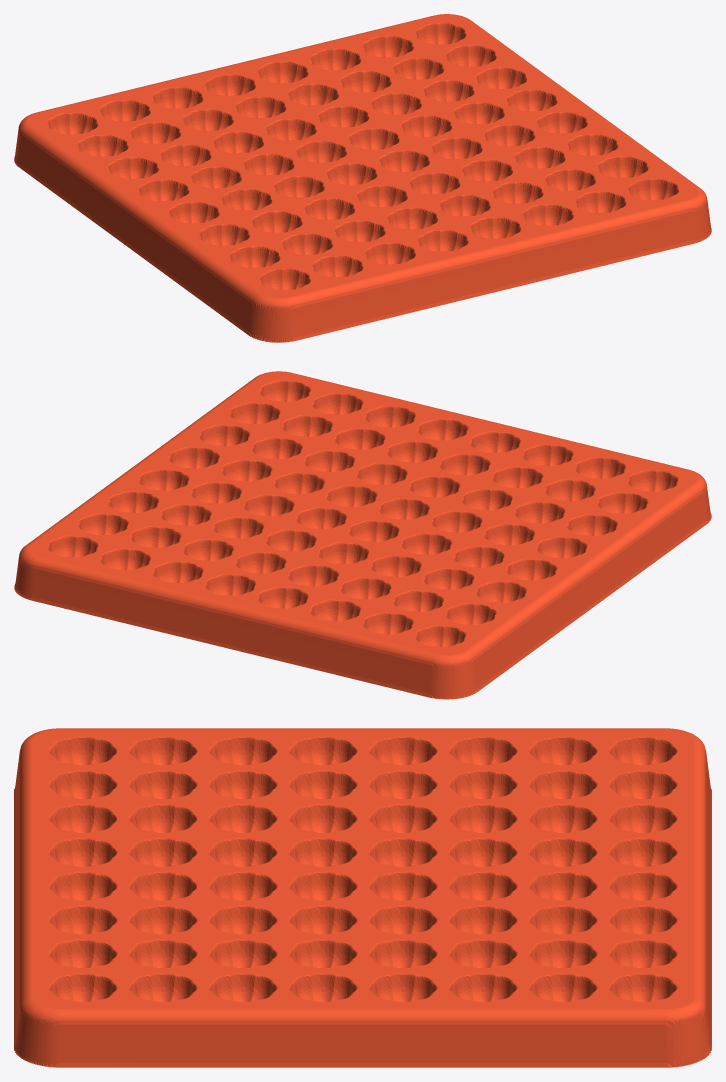
The model's file is mold.glb.
3 views of the same model, one above another, from view 1: azimuth 30°, elevation 25°; view 2: azimuth 150°, elevation 25°; view 3: azimuth 270°, elevation 25° (orthographic). The views are drawn at different scales.
Parts seen in each view (by area): view 1: geometry_0; view 2: geometry_0; view 3: geometry_0.
Part boxes in pixels (x1,y1,x2,y2): geometry_0: [14, 14, 711, 342]; geometry_0: [14, 371, 711, 699]; geometry_0: [14, 728, 711, 1067].
Bounding box in the file's own units: 0.1355 × 0.0109 × 0.1355.
